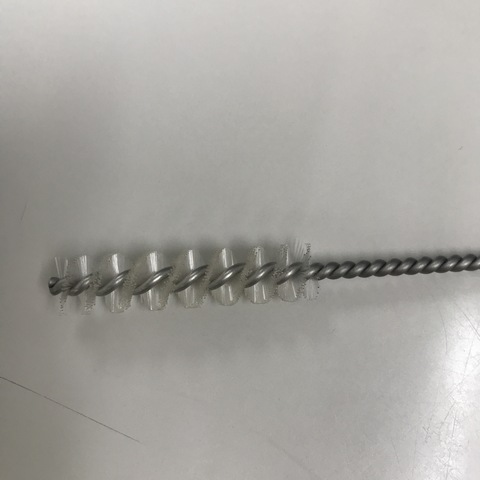Twist Brush-B: (46, 239, 480, 313)
